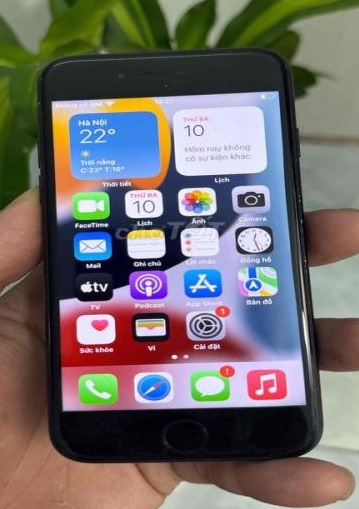scratch: (133, 59, 215, 93), (304, 372, 326, 433), (25, 65, 49, 104)
